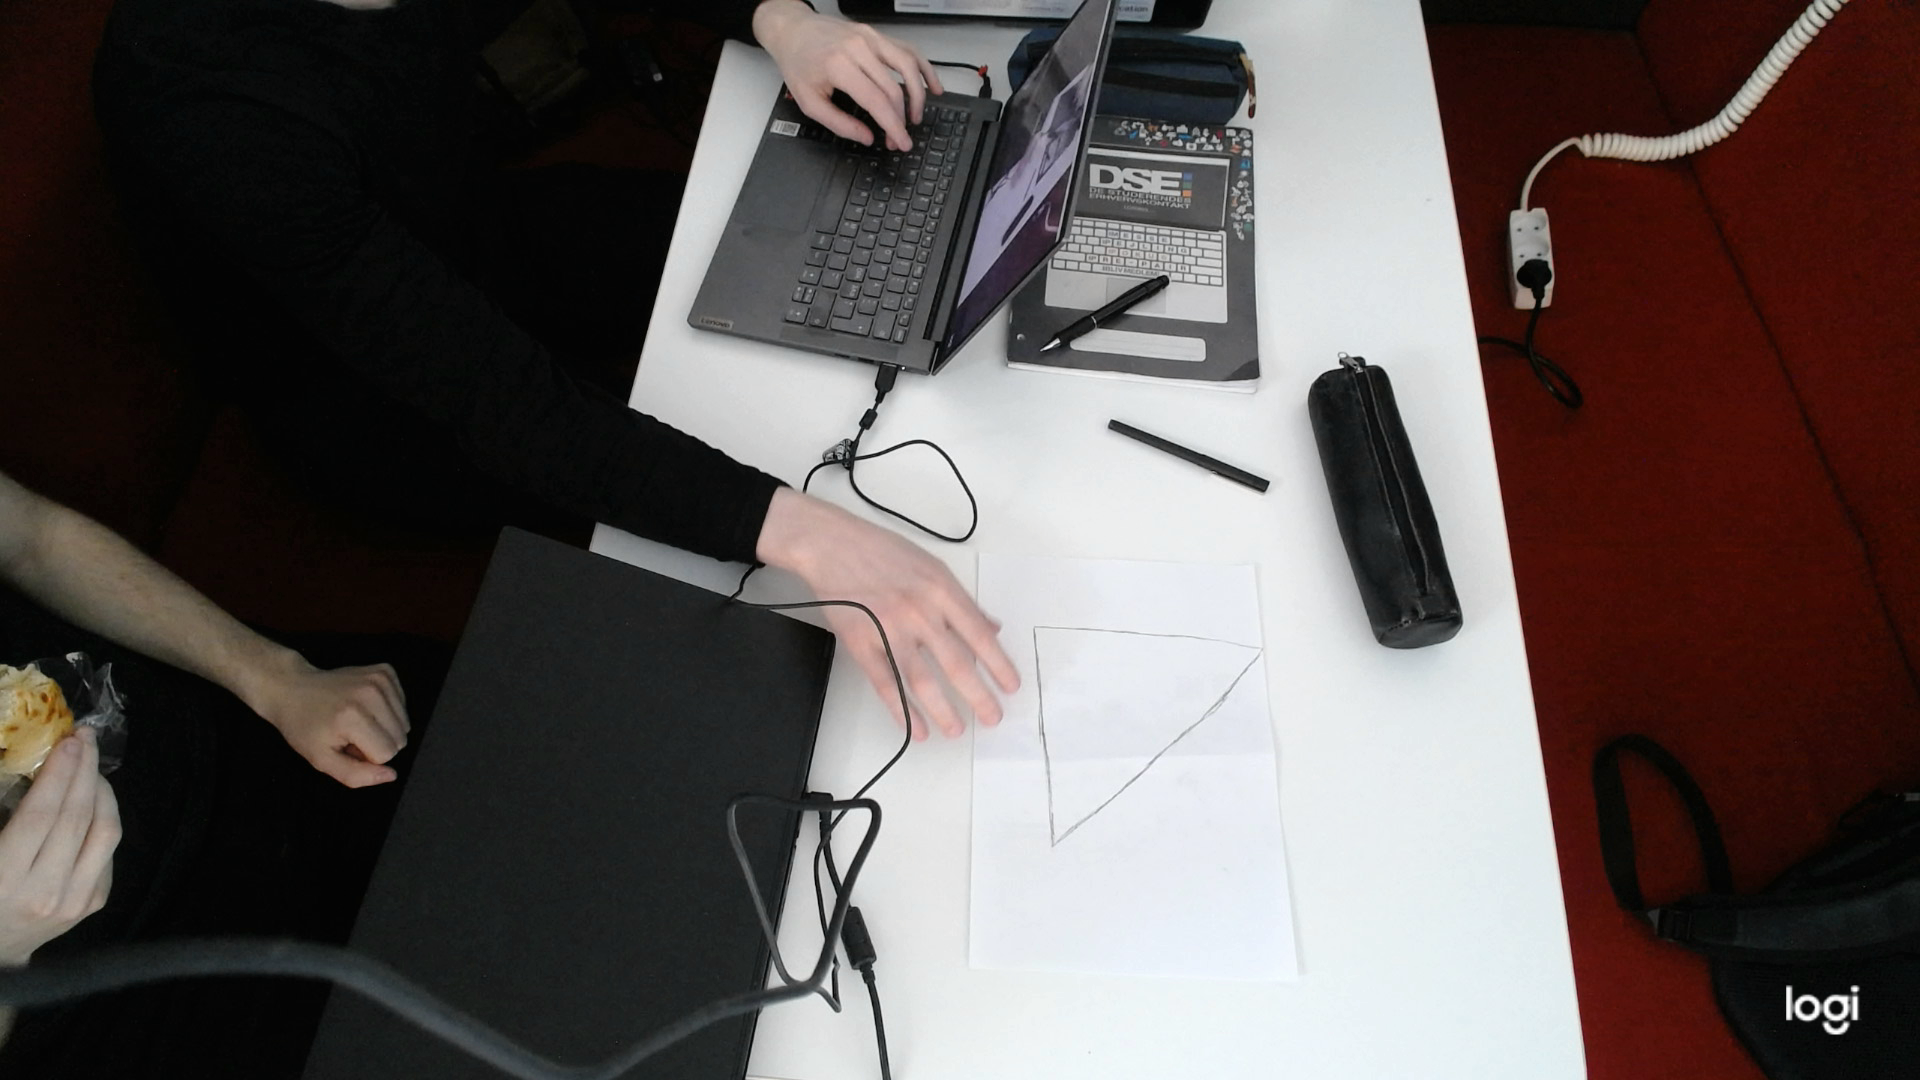Triangle: (1029, 621, 1269, 855)
